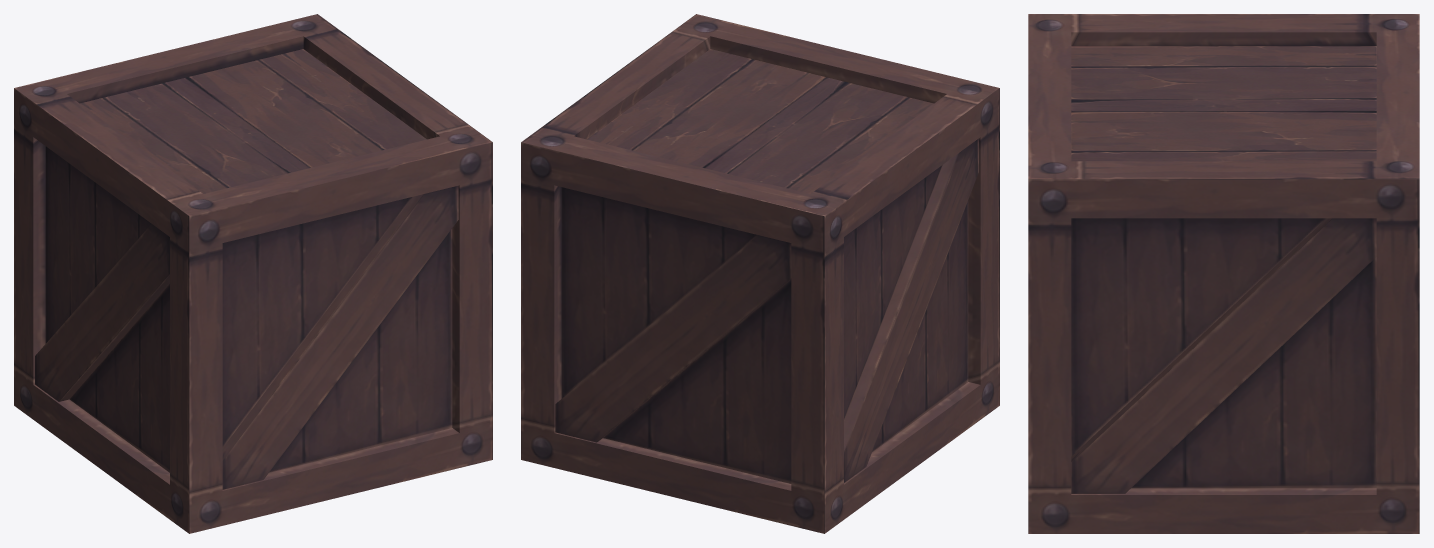
3 views of the same model, side by side, from view 1: azimuth 30°, elevation 25°; view 2: azimuth 150°, elevation 25°; view 3: azimuth 270°, elevation 25° (orthographic). The views are drawn at different scales.
Visible parts, largest first — view 1: Box026; view 2: Box026; view 3: Box026.
Boxes of the visible parts, x1,y1,x2,y2 form: Box026: (14, 14, 492, 533); Box026: (521, 14, 999, 533); Box026: (1028, 14, 1419, 533).
Size of the model in its own units: 2 by 2 by 2.
1 material, 1 textured.
